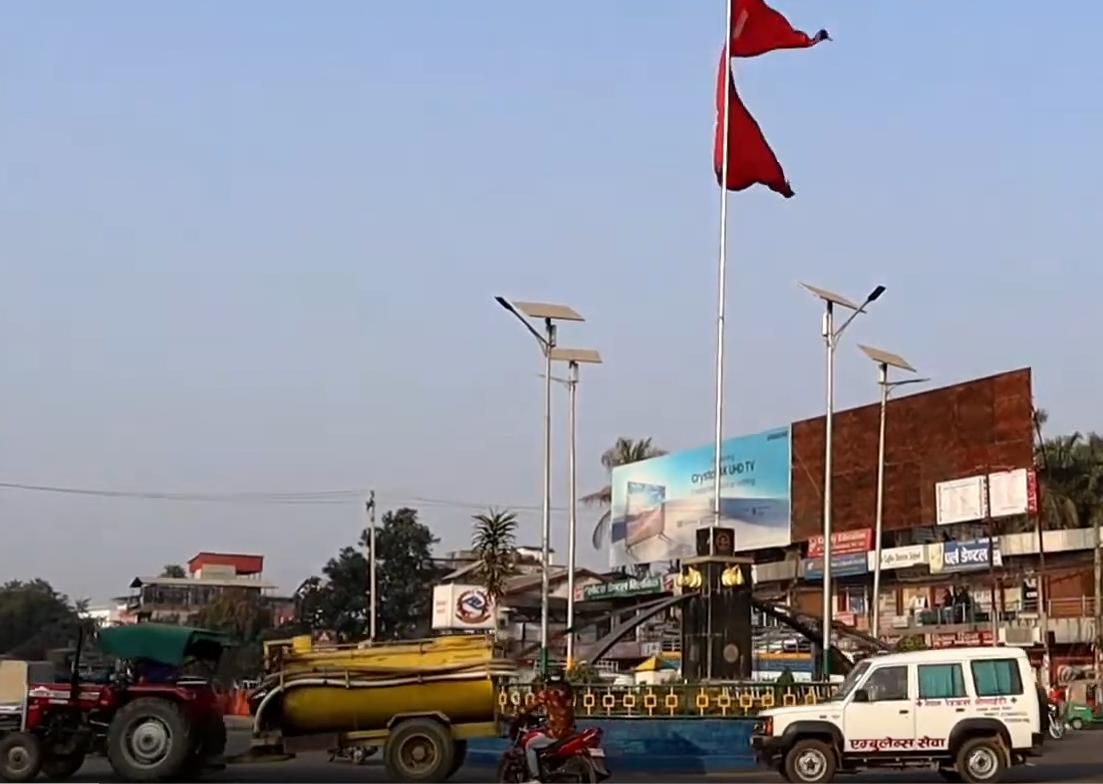ambulance: (747, 630, 1048, 784)
tractor: (0, 624, 239, 784)
